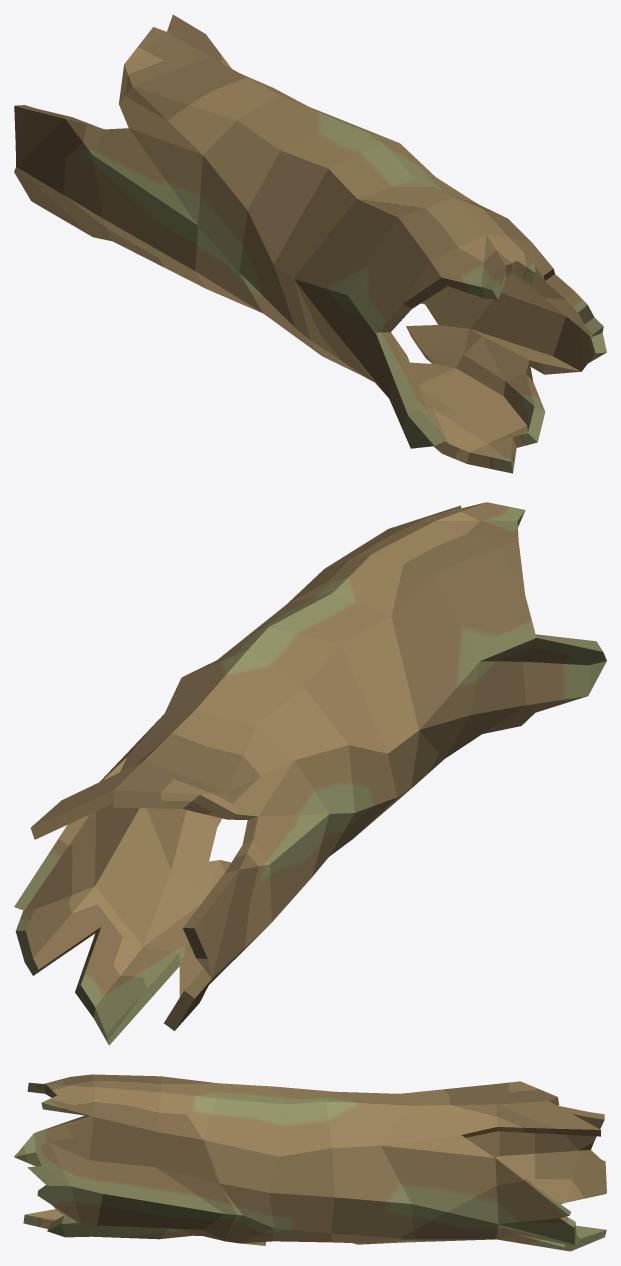
The model's file is SM_Prop_Swamp_Log_02.fbx.
3 views of the same model, one above another, from view 1: azimuth 30°, elevation 25°; view 2: azimuth 150°, elevation 25°; view 3: azimuth 270°, elevation 25° (orthographic). The views are drawn at different scales.
Visible parts, largest first — view 1: SM_Prop_Swamp_Log_02; view 2: SM_Prop_Swamp_Log_02; view 3: SM_Prop_Swamp_Log_02.
Part boxes in pixels (box(x1,y1,x2,y2)): SM_Prop_Swamp_Log_02: box(14, 14, 606, 473); SM_Prop_Swamp_Log_02: box(14, 502, 606, 1045); SM_Prop_Swamp_Log_02: box(14, 1074, 606, 1251).
Size of the model in its own units: 222 by 213 by 689.
Materials: 1 (1 with a texture image).
